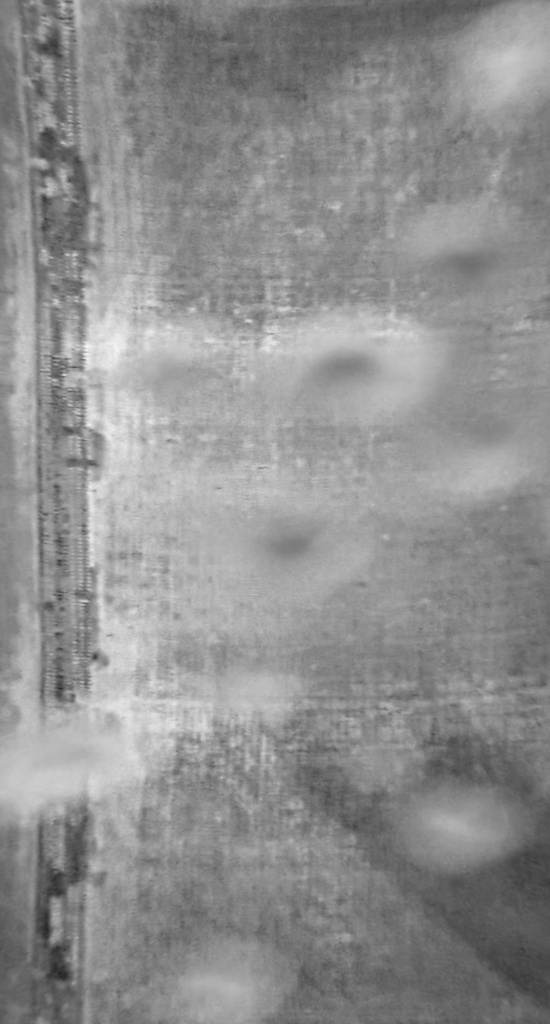splice: (10, 1, 107, 1022)
